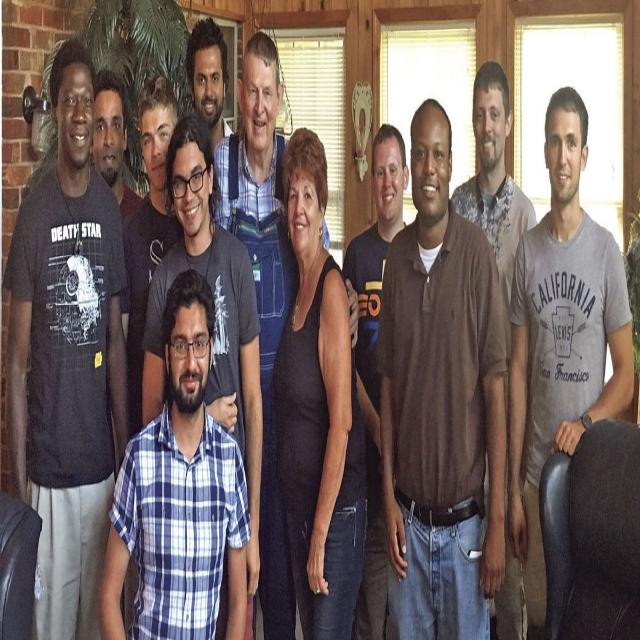body: (204, 28, 362, 639), (2, 36, 132, 640), (371, 96, 513, 639), (504, 84, 636, 639), (143, 112, 264, 639), (96, 270, 252, 639), (270, 125, 372, 639), (448, 58, 538, 639), (341, 120, 412, 638), (119, 70, 183, 443), (91, 68, 147, 226), (184, 13, 235, 157)
